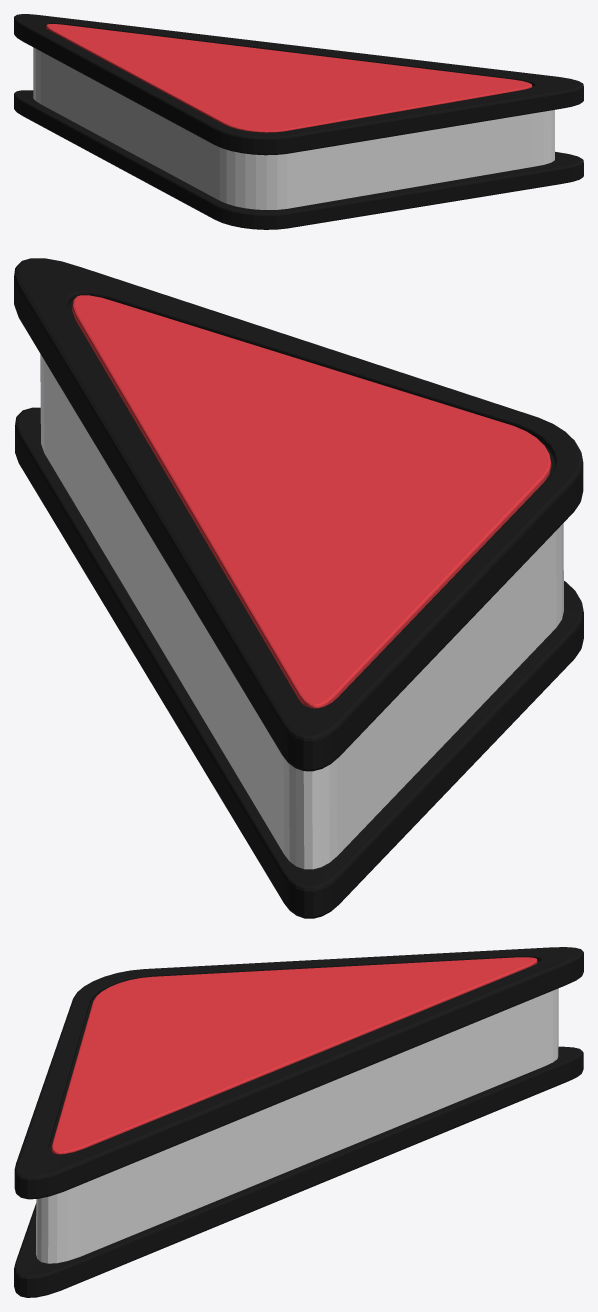
The model's file is Bumper.fbx.
3 renders of one model, top to bottom at view 1: azimuth 30°, elevation 25°; view 2: azimuth 150°, elevation 25°; view 3: azimuth 270°, elevation 25°, orthographic. The views are drawn at different scales.
Visible parts, largest first — view 1: Plane; view 2: Plane; view 3: Plane.
Boxes of the visible parts, left/top/right/bottom form: Plane: left=14, top=14, right=583, bottom=229; Plane: left=14, top=258, right=583, bottom=918; Plane: left=14, top=947, right=583, bottom=1297.
Bounding box in the file's own units: 97.46 × 24.18 × 101.
